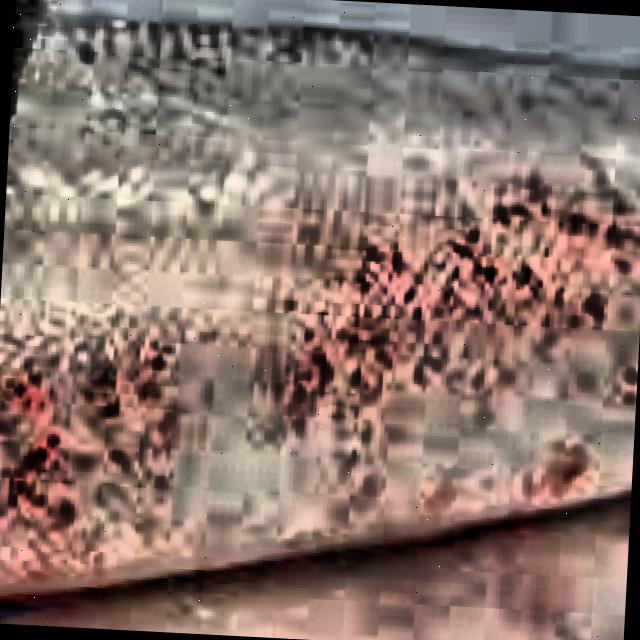mild_red: (0, 0, 640, 591)
